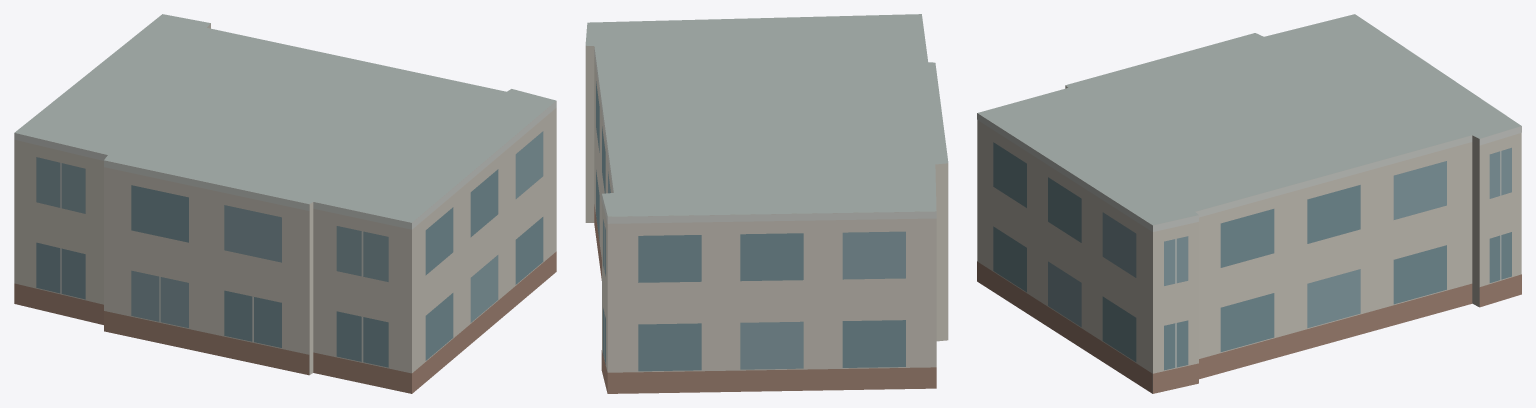
The model's file is survey-upis-32619353.glb.
3 renders of one model, left to right at view 1: azimuth 30°, elevation 25°; view 2: azimuth 150°, elevation 25°; view 3: azimuth 270°, elevation 25°, orthographic. The views are drawn at different scales.
Visible parts, largest first — view 1: survey-upis-32619353.tmp; view 2: survey-upis-32619353.tmp; view 3: survey-upis-32619353.tmp.
Boxes of the visible parts, x1,y1,x2,y2 form: survey-upis-32619353.tmp: [14, 14, 556, 393]; survey-upis-32619353.tmp: [585, 14, 948, 393]; survey-upis-32619353.tmp: [977, 14, 1521, 393].
Size of the model in its own units: 16.43 by 6.1 by 17.88.
